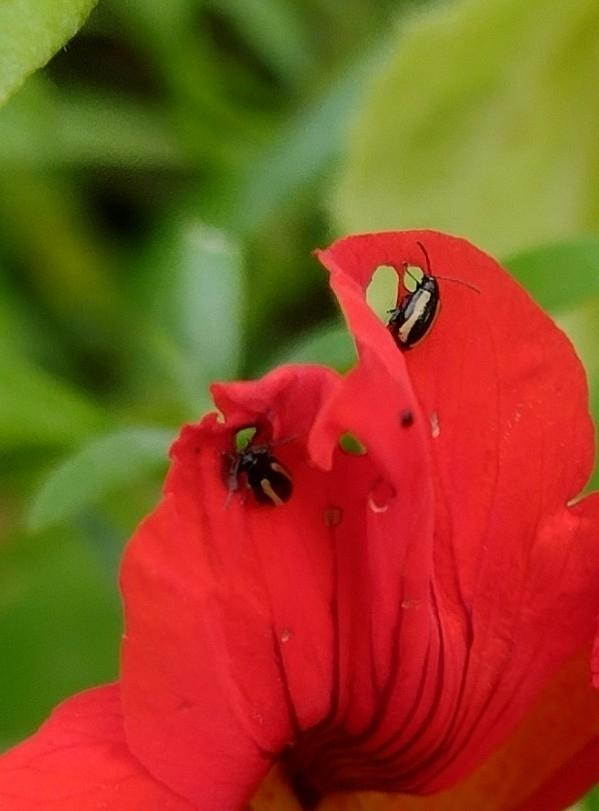flea_beetle: (373, 228, 480, 379), (208, 414, 318, 539)
